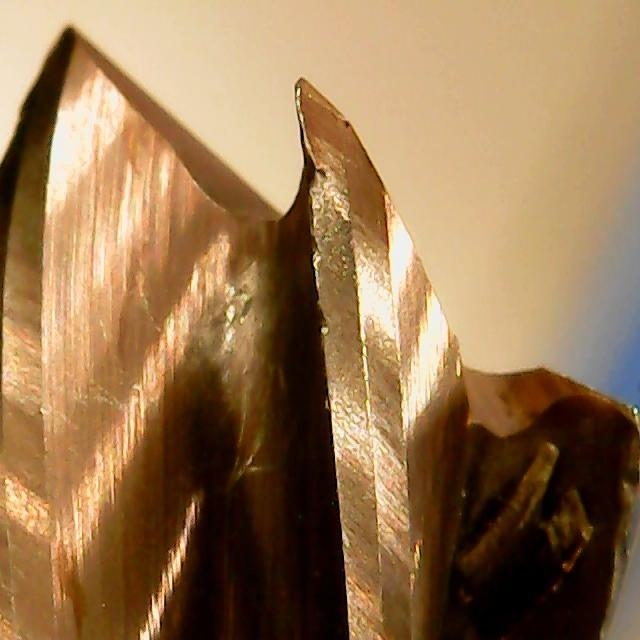Tool-wear-class-1: (276, 69, 414, 366)
